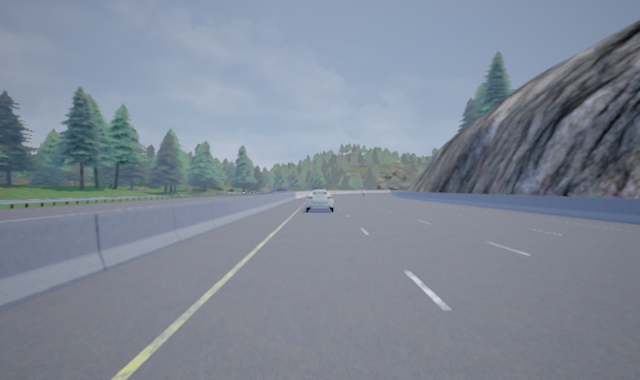vehicle: (305, 189, 334, 212)
